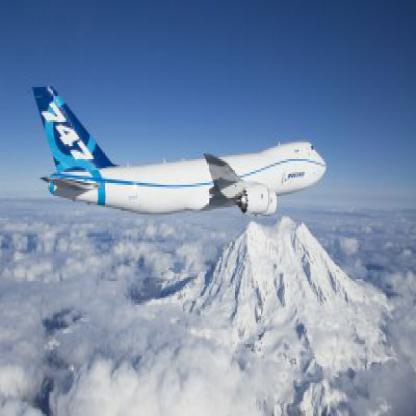CIV_Plane: (24, 74, 331, 234)
